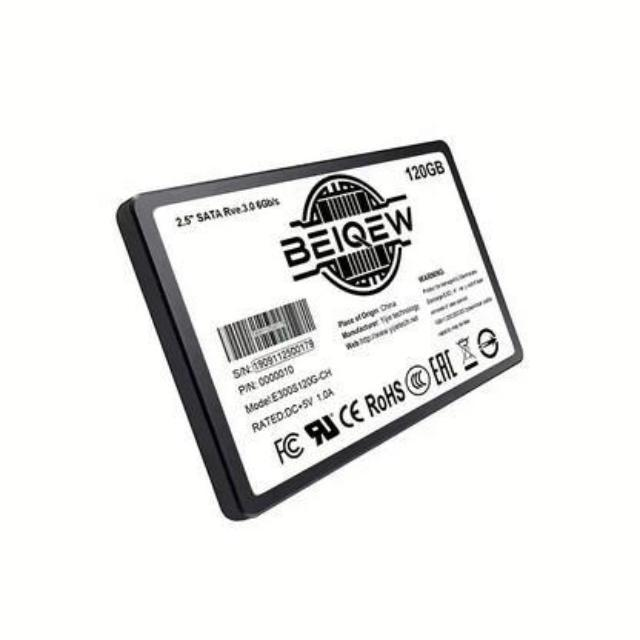DISK: (114, 131, 528, 546)
